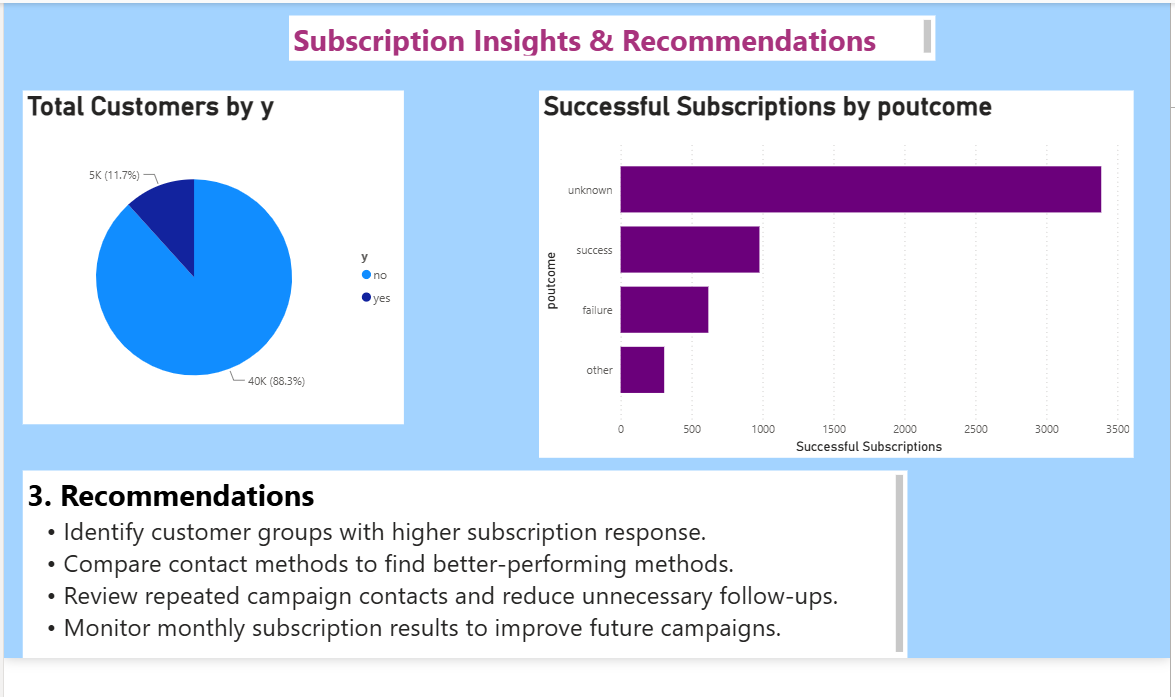

Layout of this report page (visuals, bound fields, positions):
{"tool":"powerbi","page":{"name":"Insights","canvas":[1280,720],"ordinal":2},"visuals":[{"type":"clusteredBarChart","fields":{"Category":["bank-full.poutcome"],"Y":["bank-full.Successful Subscriptions"]},"box":[587.3,96.1,653.2,403.4],"z":0},{"type":"pieChart","fields":{"Category":["bank-full.y"],"Y":["bank-full.Total Customers"]},"box":[20.6,96.1,418.5,366.4],"z":1},{"type":"textbox","box":[20.6,513.2,971.5,207.2],"z":2},{"type":"textbox","box":[312.9,13.7,709.4,49.4],"z":3}]}

Visuals, with their boxes on the page's 1280x720 design canvas (x1, y1, x2, y2). These are canvas units, not pixel positions in the 1175x697 screenshot, which may show the page scaled, cropped or inside an application window:
clusteredBarChart - bank-full.poutcome x bank-full.Successful Subscriptions: (x1=587, y1=96, x2=1240, y2=500)
pieChart - bank-full.y x bank-full.Total Customers: (x1=21, y1=96, x2=439, y2=462)
textbox: (x1=21, y1=513, x2=992, y2=720)
textbox: (x1=313, y1=14, x2=1022, y2=63)
